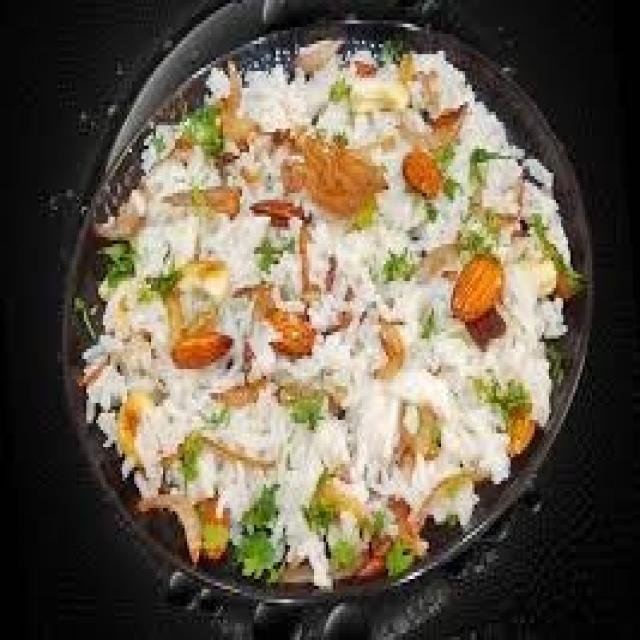nei satham: (72, 38, 587, 589)
